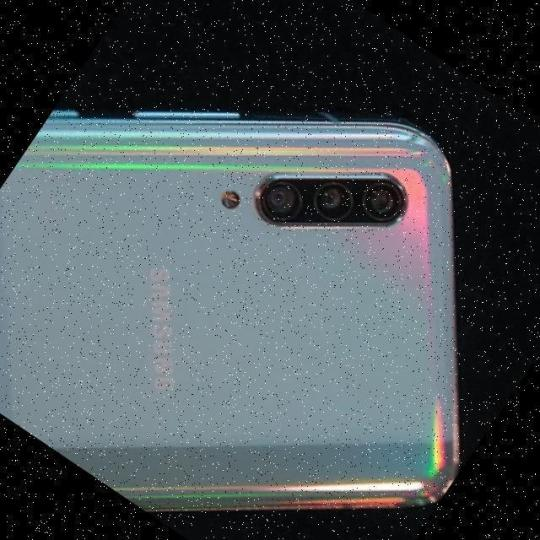phone: (0, 112, 466, 506)
